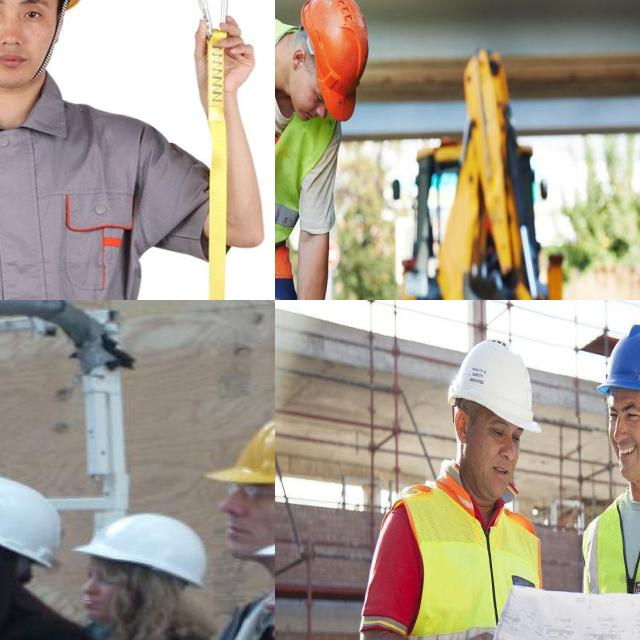Harness: (0, 111, 151, 300)
No_Ear-Protection: (452, 402, 471, 453), (290, 44, 306, 71)
No_Glasses: (0, 0, 48, 28), (203, 481, 268, 500), (254, 555, 275, 601), (76, 565, 120, 586)
face_nomask: (469, 408, 526, 506), (219, 492, 275, 559), (600, 386, 640, 477), (290, 55, 333, 136), (80, 576, 115, 624)
head_helmet: (74, 504, 214, 595), (450, 334, 545, 436), (299, 0, 369, 122), (0, 472, 70, 577), (208, 404, 275, 501), (597, 319, 640, 400)
person: (397, 327, 548, 640), (275, 0, 360, 300), (586, 328, 640, 640)
vest: (392, 488, 547, 640), (275, 13, 337, 278), (582, 475, 640, 640)
